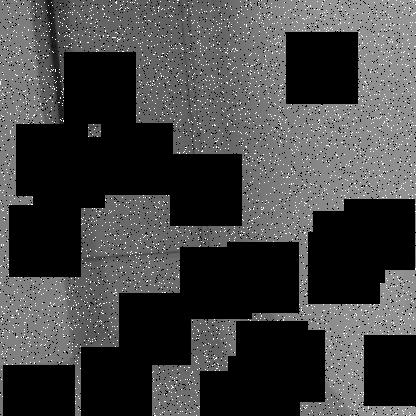Porte: (39, 1, 213, 266)
